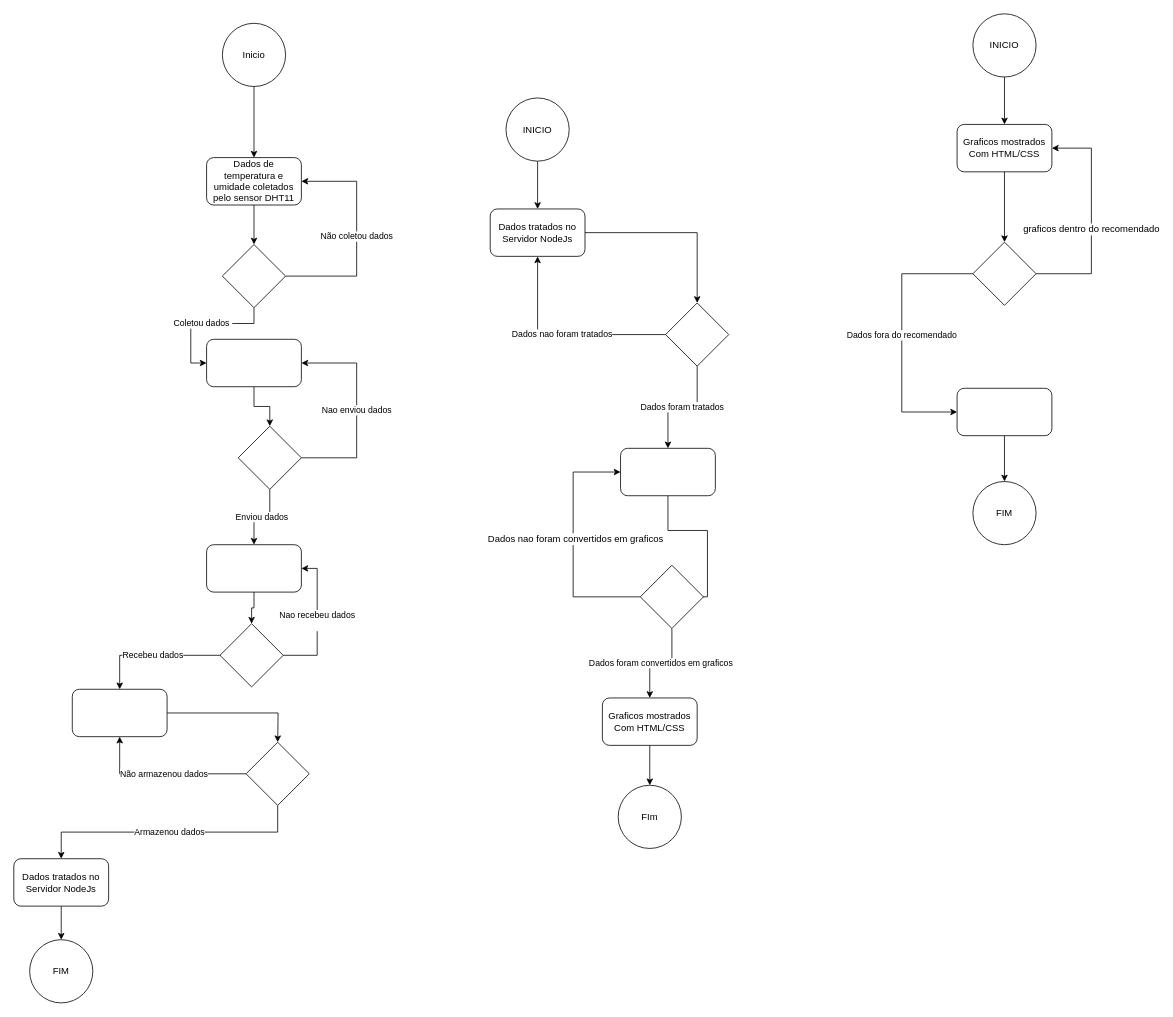
The diagram is 1173 pixels wide and 1017 high, and some of its shapes have lost their labels. The centre of each missing label's shape, as x and y in pixels:
"Dados Armazenados em tabelas no banco de dados Azure" goes at pixel 119 712.
"Dados enviados via internet" goes at pixel 253 363.
"Dados recebidos no NodeJs" goes at pixel 253 568.
"Dados requisitados e convertidos em Graficos com JS" goes at pixel 667 472.
"Disparar mensagens de alerta em sms/EMAIL" goes at pixel 1004 411.
